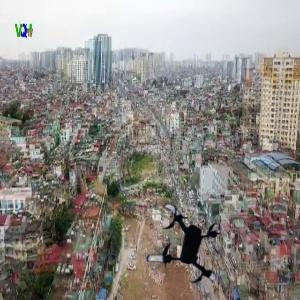drone: (137, 200, 230, 293)
